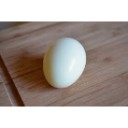begg: (41, 36, 87, 88)
